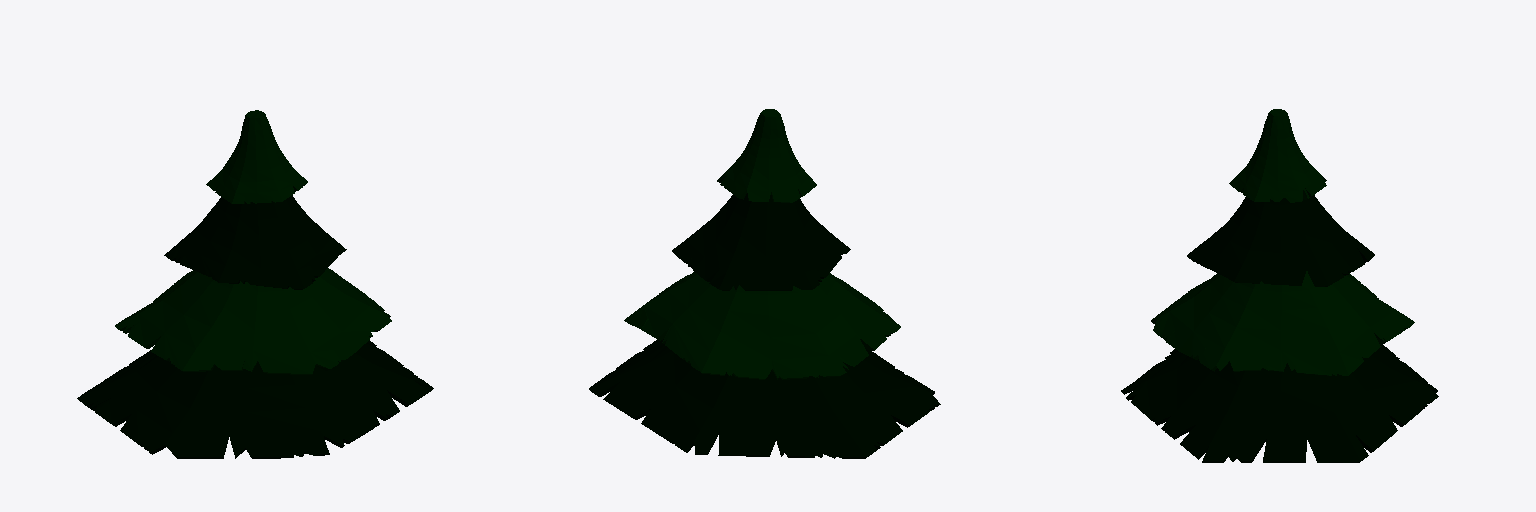
The model's file is cone_tier_4.obj.
The picture shows the model from 3 angles: view 1: azimuth 30°, elevation 25°; view 2: azimuth 150°, elevation 25°; view 3: azimuth 270°, elevation 25°; orthographic projection.
Visible parts, largest first — view 1: fourth_tier_template.002; view 2: fourth_tier_template.002; view 3: fourth_tier_template.002.
Part boxes in pixels (x1,y1,x2,y2): fourth_tier_template.002: (77,110,433,458); fourth_tier_template.002: (589,109,940,458); fourth_tier_template.002: (1121,109,1438,462).
Bounding box in the file's own units: 0.3134 × 0.3065 × 0.3086.